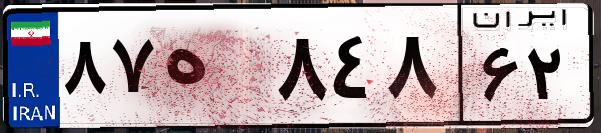2: (525, 38, 570, 115)
4: (330, 28, 385, 110)
6: (475, 38, 525, 113)
7: (110, 28, 158, 98)
8: (270, 28, 330, 110), (385, 28, 445, 110), (57, 26, 110, 100)
ه: (158, 20, 270, 120)
